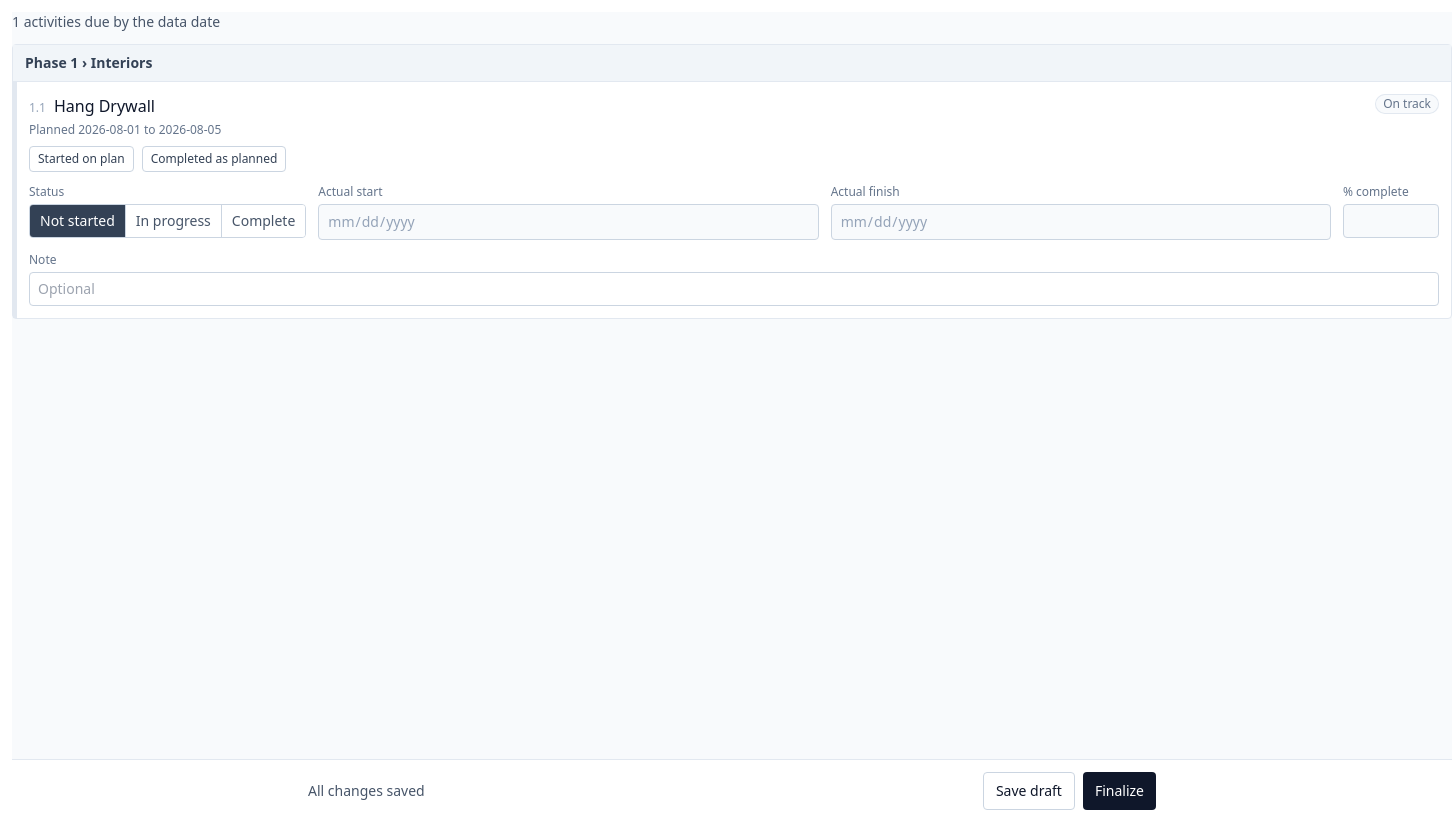
it: LookaheadUpdateForm › Complete locks % to 100 and blocks saving without an actual finish
Click the button "Complete": [264, 221] box [222,205,305,237]
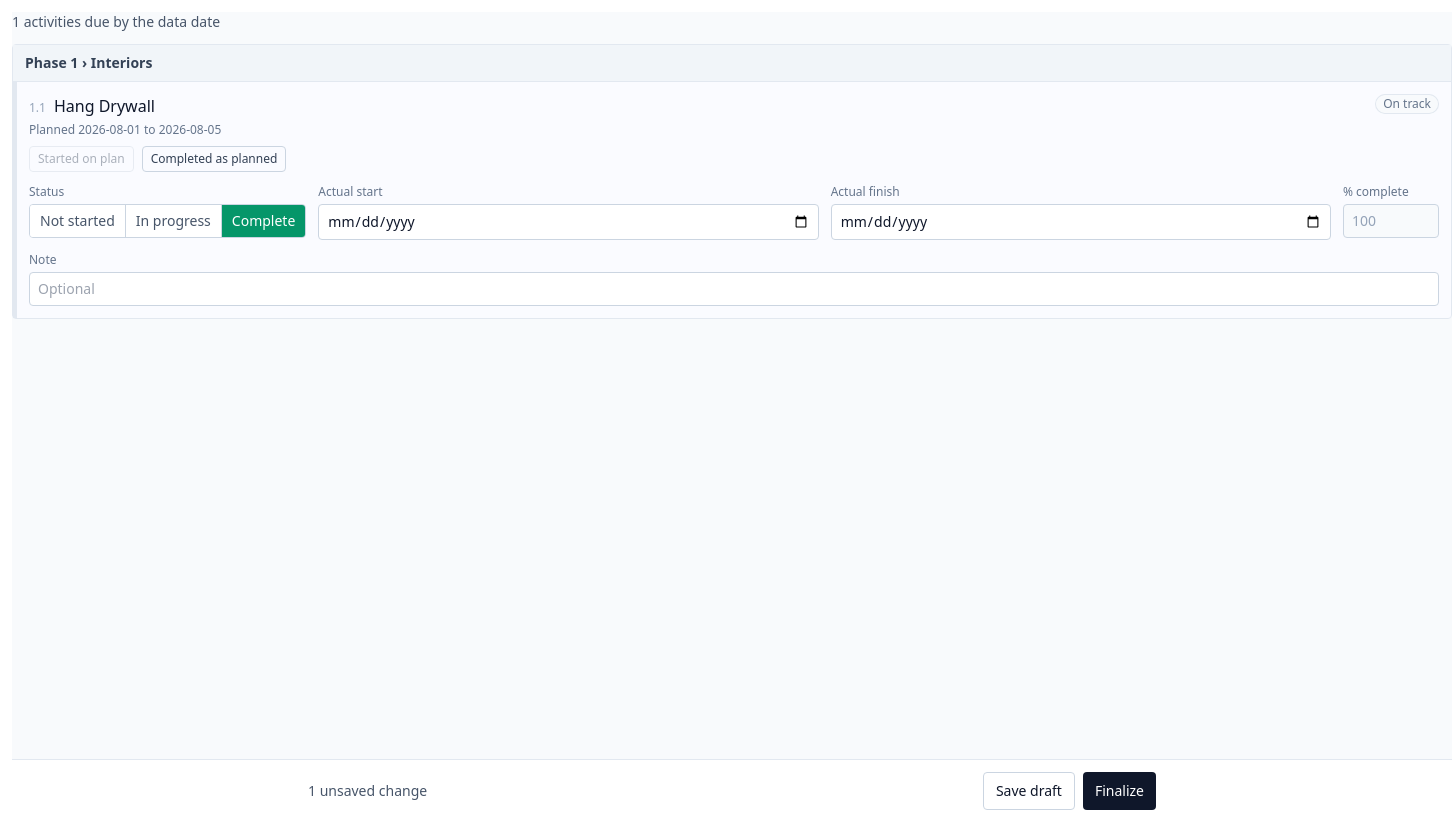
Expected: the number field labelled "% complete" is disabled, [1343,204,1439,238]
Result: the number field labelled "% complete" holds "100" at [1343,204,1439,238]
Click the button "Save draft": [1029, 791] box [983,772,1075,810]
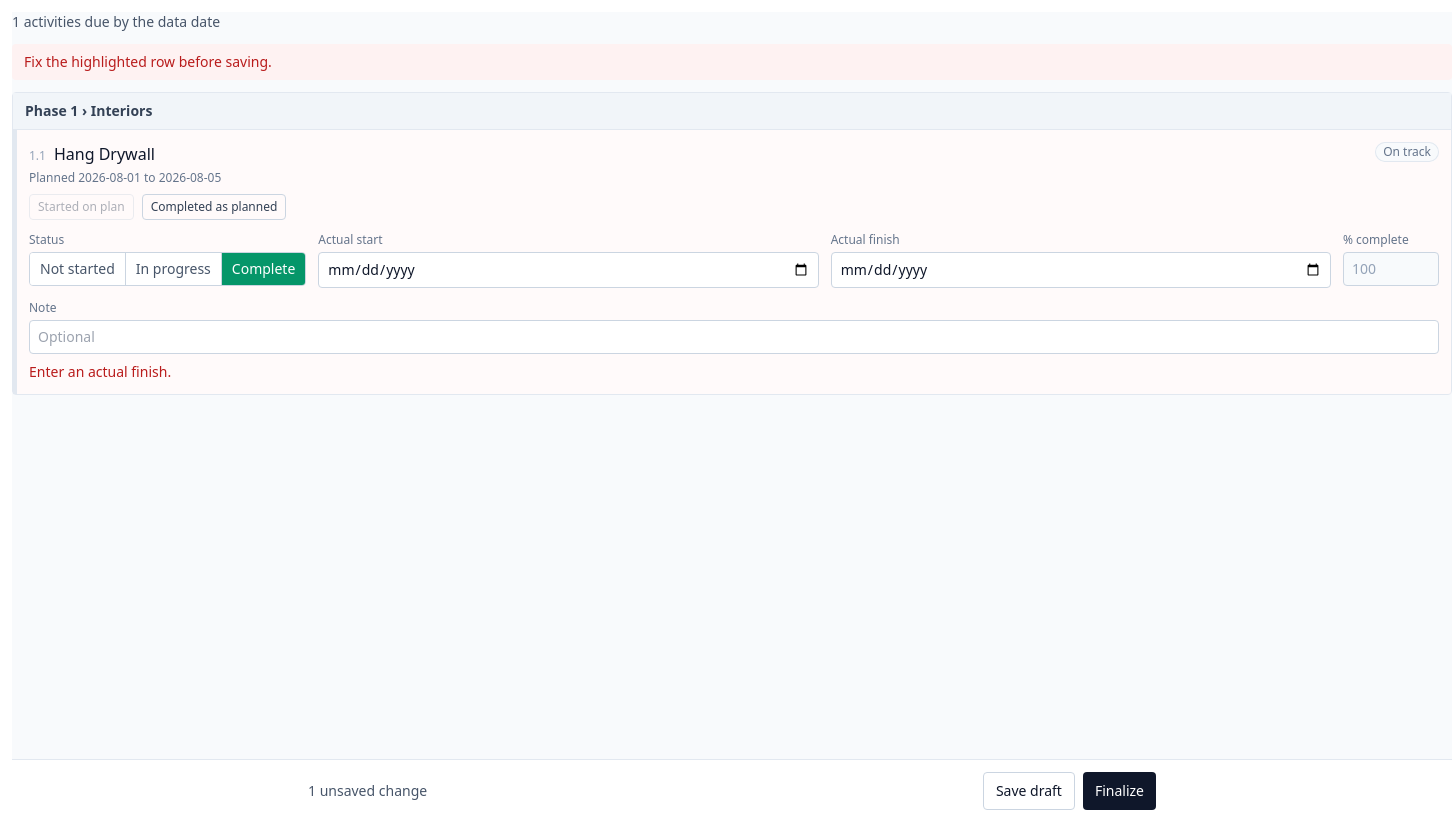
Result: the text "Enter an actual finish." is shown at [29,362,171,381]
